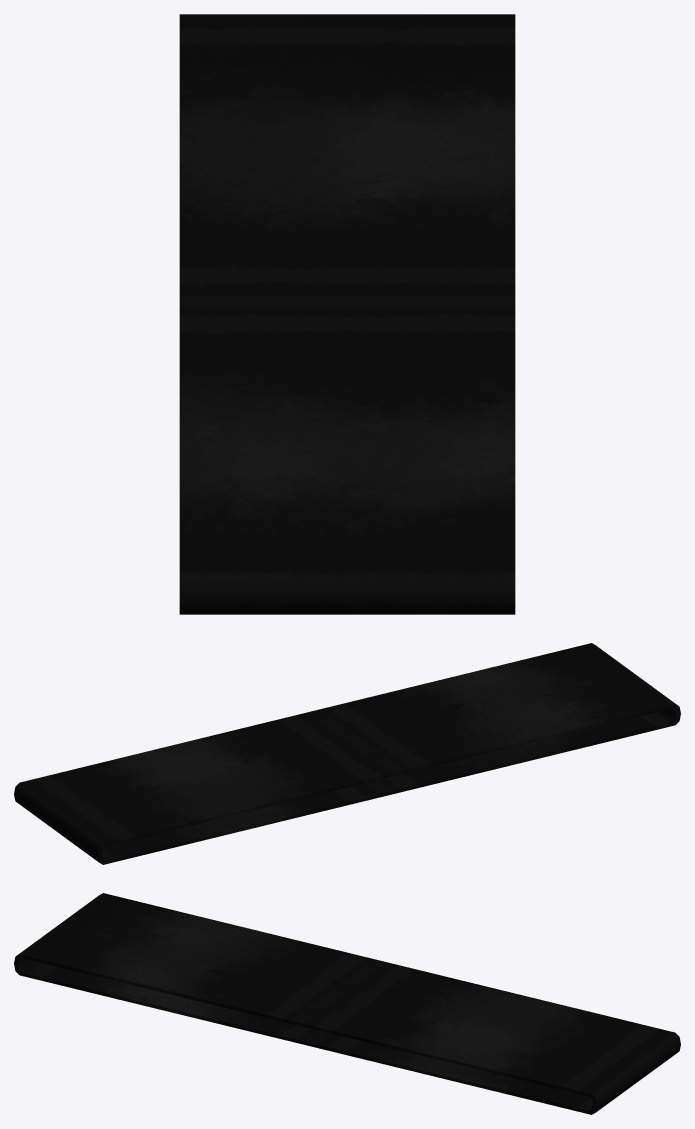
The model's file is conveyer_test.fbx.
3 views of the same model, one above another, from view 1: azimuth 30°, elevation 25°; view 2: azimuth 150°, elevation 25°; view 3: azimuth 270°, elevation 25° (orthographic). The views are drawn at different scales.
Parts seen in each view (by area): view 1: ConveyerBelt_Outer; view 2: ConveyerBelt_Outer; view 3: ConveyerBelt_Outer.
Boxes of the visible parts, x1,y1,x2,y2 form: ConveyerBelt_Outer: (179,14,515,614); ConveyerBelt_Outer: (14,643,680,864); ConveyerBelt_Outer: (14,893,680,1114).
Bounding box in the file's own units: 128 × 6.11 × 177.
1 material, 1 textured.
